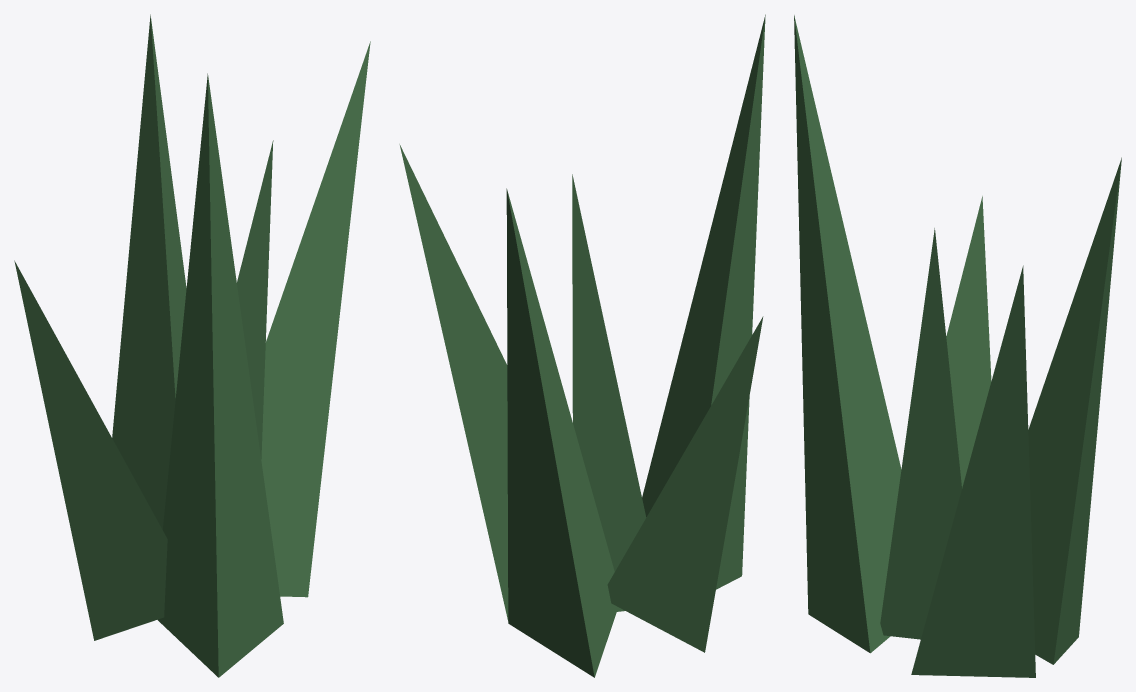
The model's file is smallgrass.fbx.
3 renders of one model, left to right at view 1: azimuth 30°, elevation 25°; view 2: azimuth 150°, elevation 25°; view 3: azimuth 270°, elevation 25°, orthographic. The views are drawn at different scales.
Parts seen in each view (by area): view 1: pCone1, pCone2, pCone3, pCone5, pCone4; view 2: pCone5, pCone1, pCone3, pCone2, pCone4; view 3: pCone1, pCone2, pCone5, pCone4, pCone3.
Boxes of the visible parts, x1,y1,x2,y2 form: pCone1: (157,73,283,677); pCone2: (261,41,370,597); pCone3: (14,260,167,640); pCone5: (112,14,186,529); pCone4: (237,140,273,458); pCone5: (506,188,618,677); pCone1: (642,14,765,589); pCone3: (607,316,763,652); pCone2: (399,144,624,620); pCone4: (572,174,646,571); pCone1: (794,15,901,653); pCone2: (911,265,1035,677); pCone5: (1028,157,1121,664); pCone4: (880,228,961,639); pCone3: (946,196,991,488).
Bounding box in the file's own units: 1.78 × 2.83 × 1.39.
